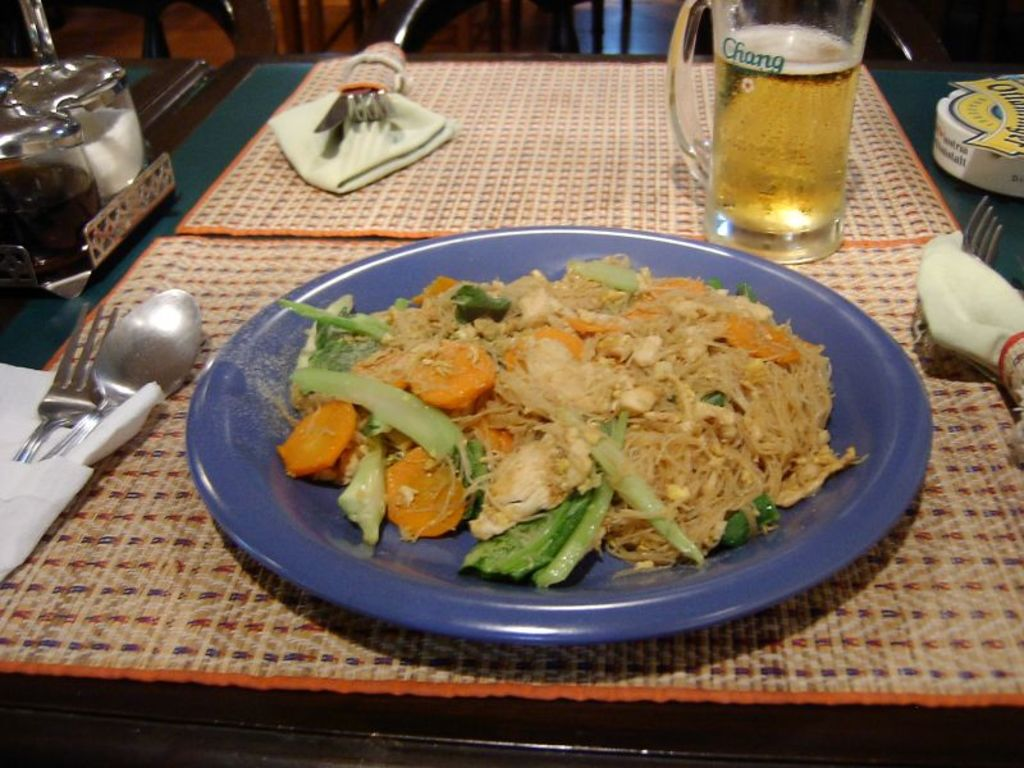Beer: (691, 32, 860, 244)
